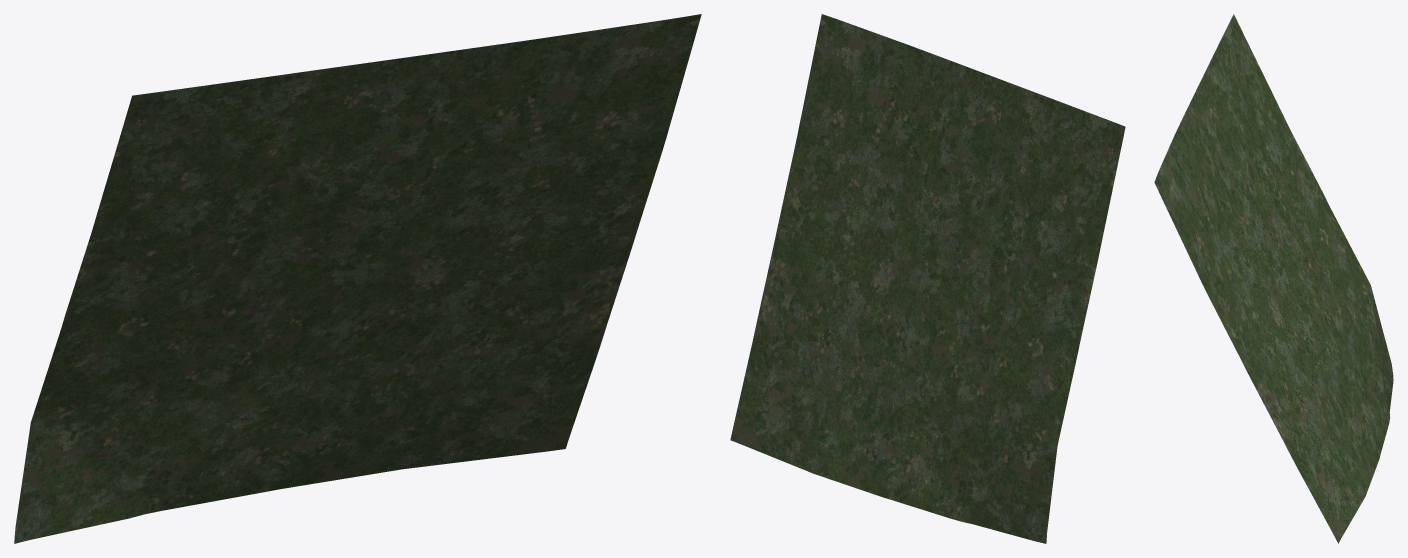
File: terrain_near_01_06.obj
3 renders of one model, left to right at view 1: azimuth 30°, elevation 25°; view 2: azimuth 150°, elevation 25°; view 3: azimuth 270°, elevation 25°, orthographic. The views are drawn at different scales.
Parts seen in each view (by area): view 1: terrain_near_01_06; view 2: terrain_near_01_06; view 3: terrain_near_01_06.
Boxes of the visible parts, box(x1,y1,x2,y2) form: terrain_near_01_06: box(14, 14, 701, 543); terrain_near_01_06: box(730, 14, 1125, 543); terrain_near_01_06: box(1154, 14, 1393, 543).
Size of the model in its own units: 64 by 64 by 38.37.
Materials: 1 (1 with a texture image).
